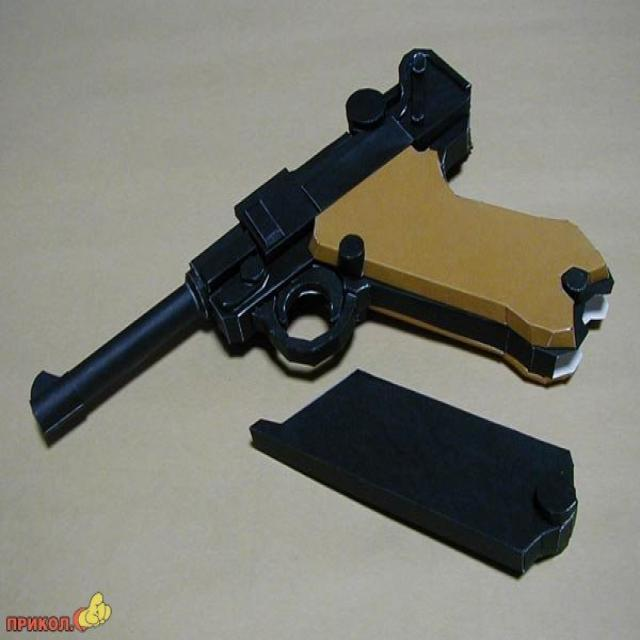firearm: (31, 46, 617, 446)
